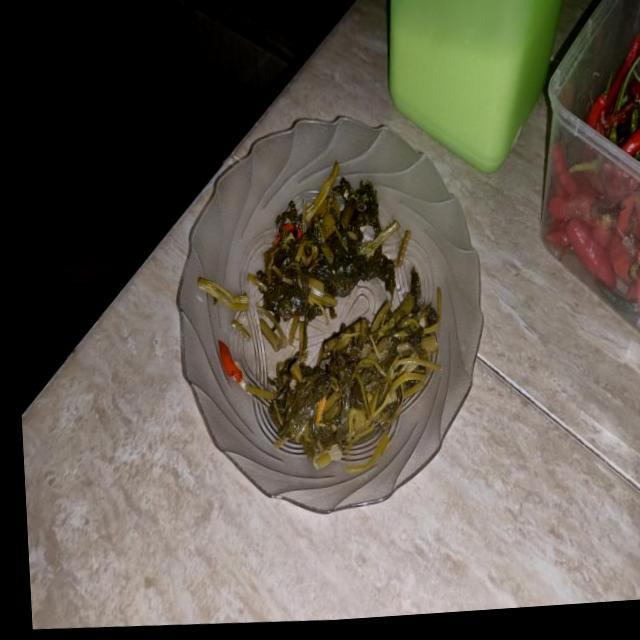tumis_kangkung: (274, 281, 440, 468), (256, 162, 399, 323)
